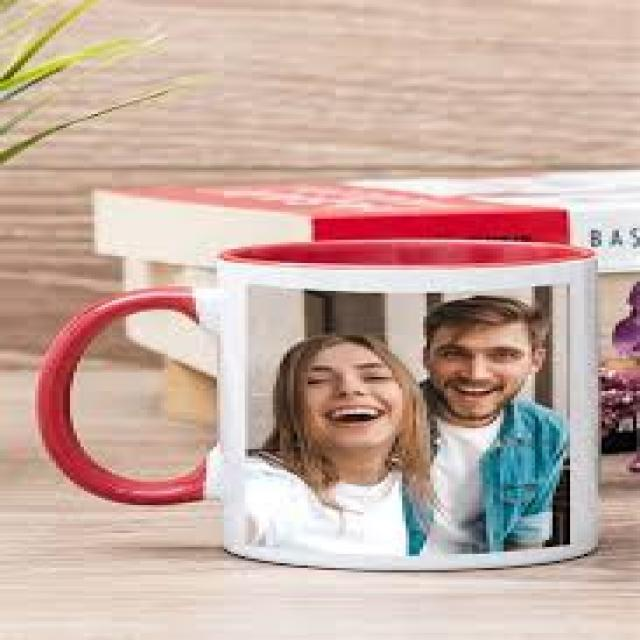taza: (36, 240, 599, 575)
